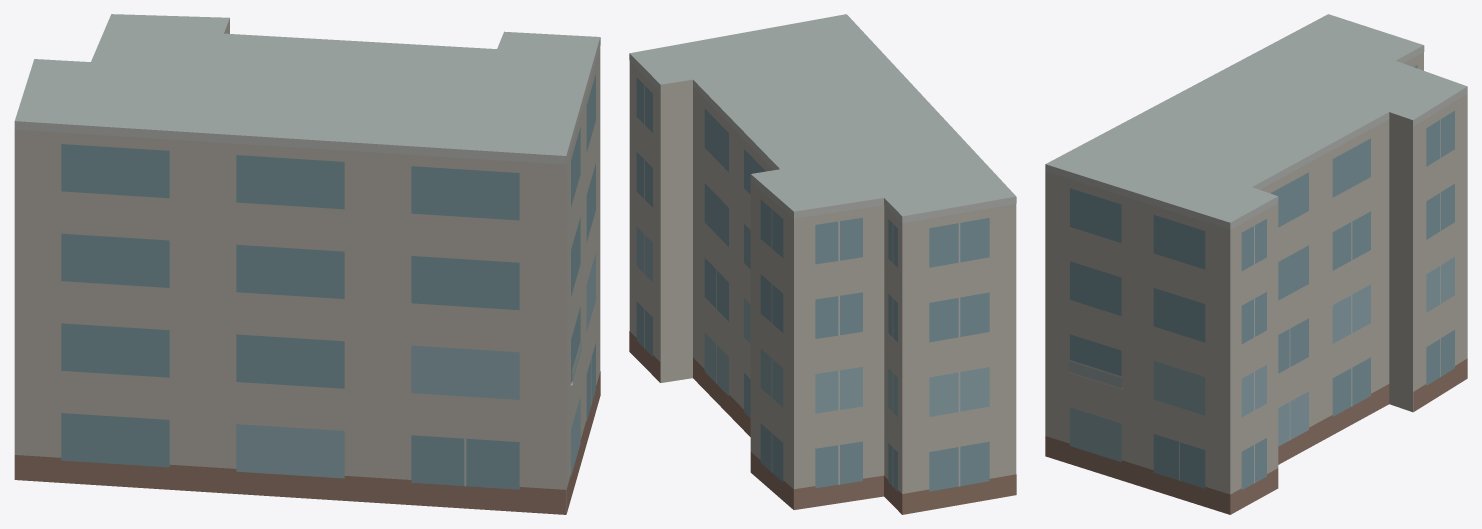
The model's file is survey-upis-33011339.glb.
The picture shows the model from 3 angles, left to right: view 1: azimuth 30°, elevation 25°; view 2: azimuth 150°, elevation 25°; view 3: azimuth 270°, elevation 25°; orthographic projection. The views are drawn at different scales.
Parts seen in each view (by area): view 1: survey-upis-33011339.tmp; view 2: survey-upis-33011339.tmp; view 3: survey-upis-33011339.tmp.
Boxes of the visible parts, x1,y1,x2,y2 form: survey-upis-33011339.tmp: [14, 14, 600, 514]; survey-upis-33011339.tmp: [629, 14, 1016, 514]; survey-upis-33011339.tmp: [1045, 14, 1467, 514].
Size of the model in its own units: 15.79 by 10.3 by 13.5.
